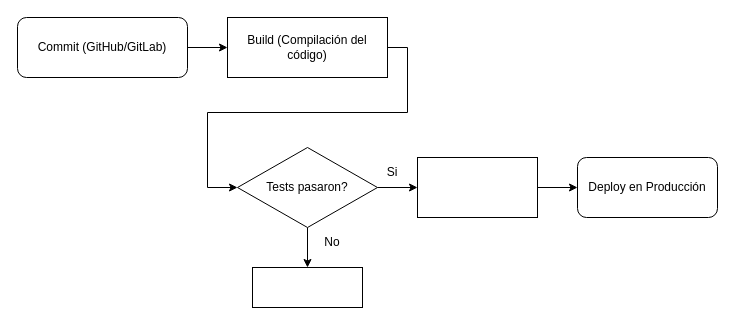
The diagram is 735 pixels wide and 325 high, and some of its shapes have lost their labels. Here are the shapes that lost their labels. From the top down, the box of each, then its label:
(416, 156, 538, 218): Deploy en Staging
(252, 266, 362, 308): Devuelve error
